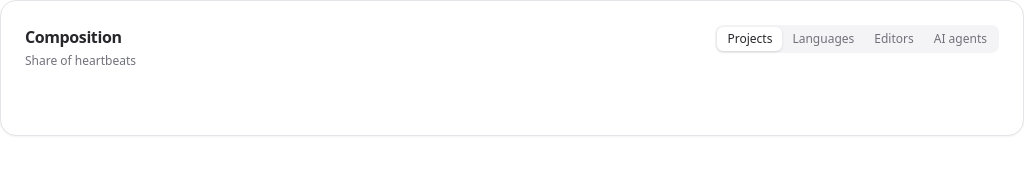
Test: shows no AI evidence without inferring it from editor activity
Click the tab "AI agents".
click(960, 39)  # box [924,27,997,51]
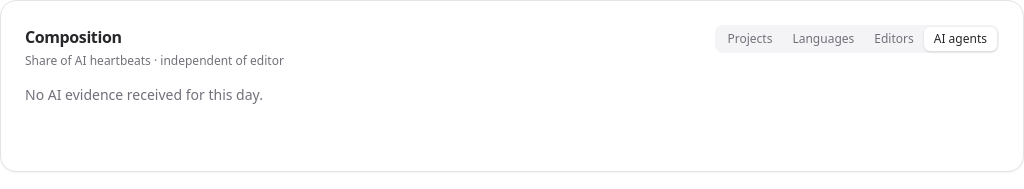
Result: the text "No AI evidence received for this day." is shown at [25,85,263,104]
